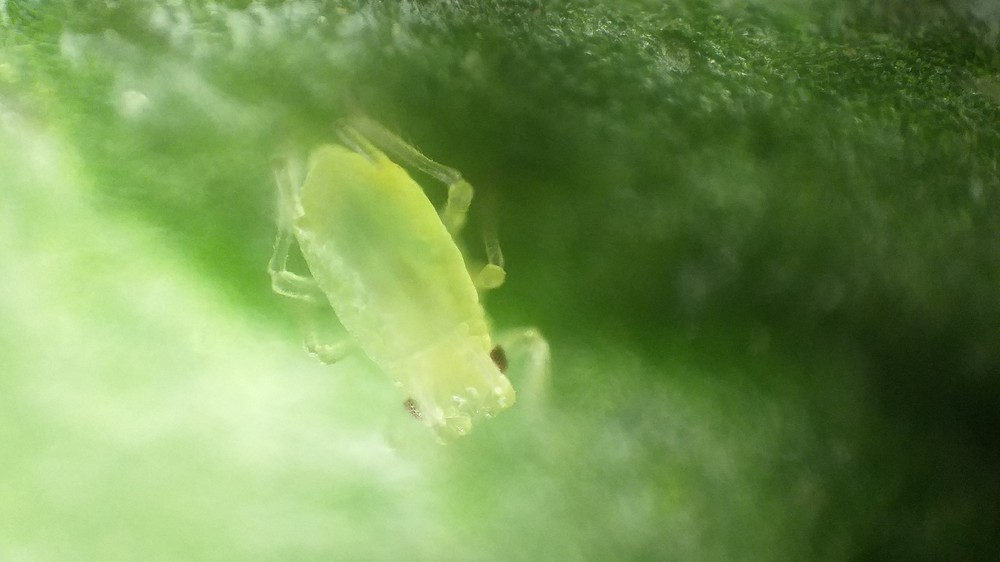Pulgon: (243, 102, 602, 469)
